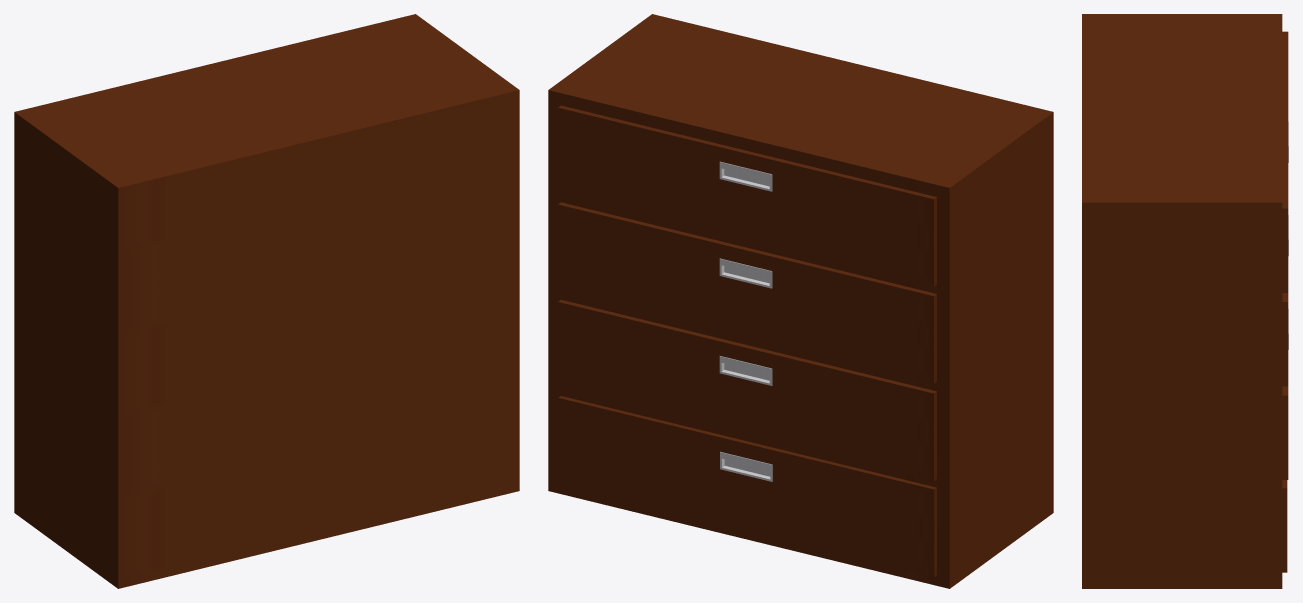
File: Drawer15.glb
The picture shows the model from 3 angles, left to right: view 1: azimuth 30°, elevation 25°; view 2: azimuth 150°, elevation 25°; view 3: azimuth 270°, elevation 25°; orthographic projection. The views are drawn at different scales.
Visible parts, largest first — view 1: Drawer15_Body; view 2: Drawer15_Body, Drawer15_1, Drawer15_3, Drawer15_2, Drawer15_4; view 3: Drawer15_Body, Drawer15_1, Drawer15_2, Drawer15_3, Drawer15_4.
Boxes of the visible parts, x1,y1,x2,y2 form: Drawer15_Body: [14, 14, 519, 588]; Drawer15_Body: [548, 14, 1053, 588]; Drawer15_1: [558, 105, 936, 286]; Drawer15_3: [558, 299, 936, 480]; Drawer15_2: [558, 202, 936, 383]; Drawer15_4: [558, 396, 936, 576]; Drawer15_Body: [1082, 14, 1282, 588]; Drawer15_1: [1282, 31, 1288, 292]; Drawer15_2: [1282, 215, 1288, 386]; Drawer15_3: [1282, 309, 1288, 479]; Drawer15_4: [1282, 480, 1287, 572].
Bounding box in the file's own units: 1.86 × 1.77 × 0.8606.
Materials: 1 (1 with a texture image).
